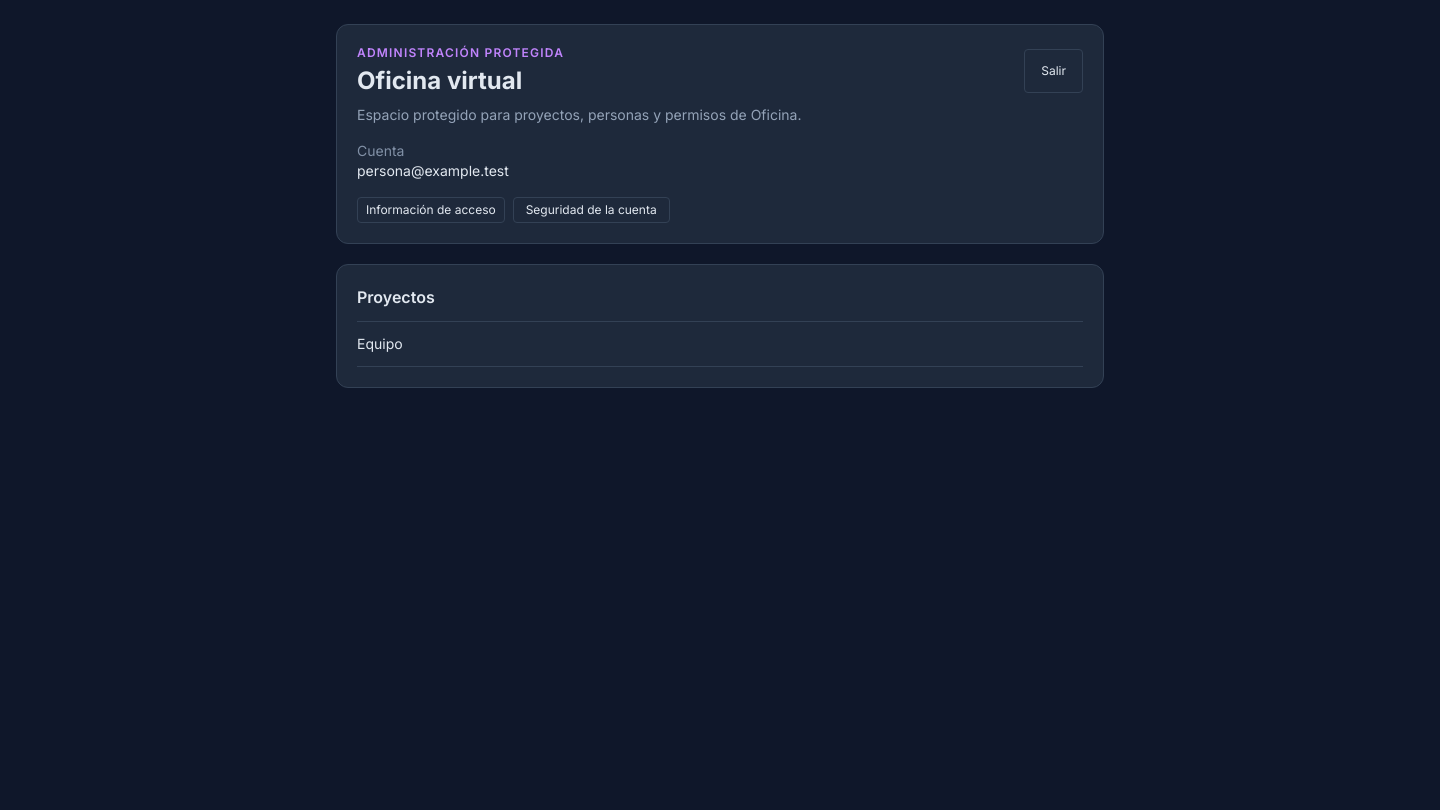
it: Virtual Office › shows member management to a project administrator from the project capability, without offering role elevation
This screenshot has width=1440, height=810.
What coordinates should you click on to do the following:
click the button "Equipo"
I would click on:
 (380, 344)
Its box is [357,322,1083,366].
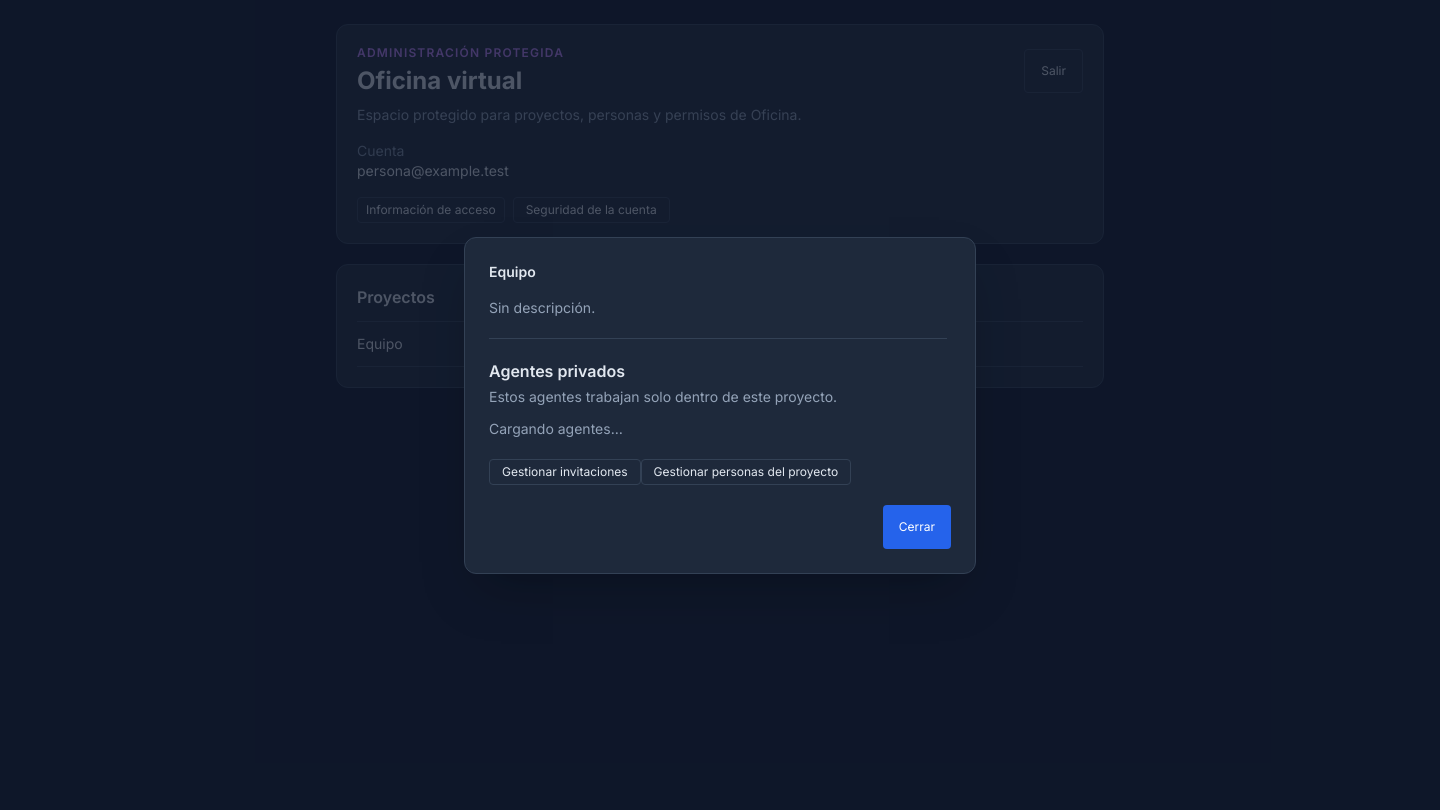
What coordinates should you click on to do the following:
click the button "Gestionar personas del proyecto"
I would click on:
 (746, 472)
Its box is [641,458,851,484].
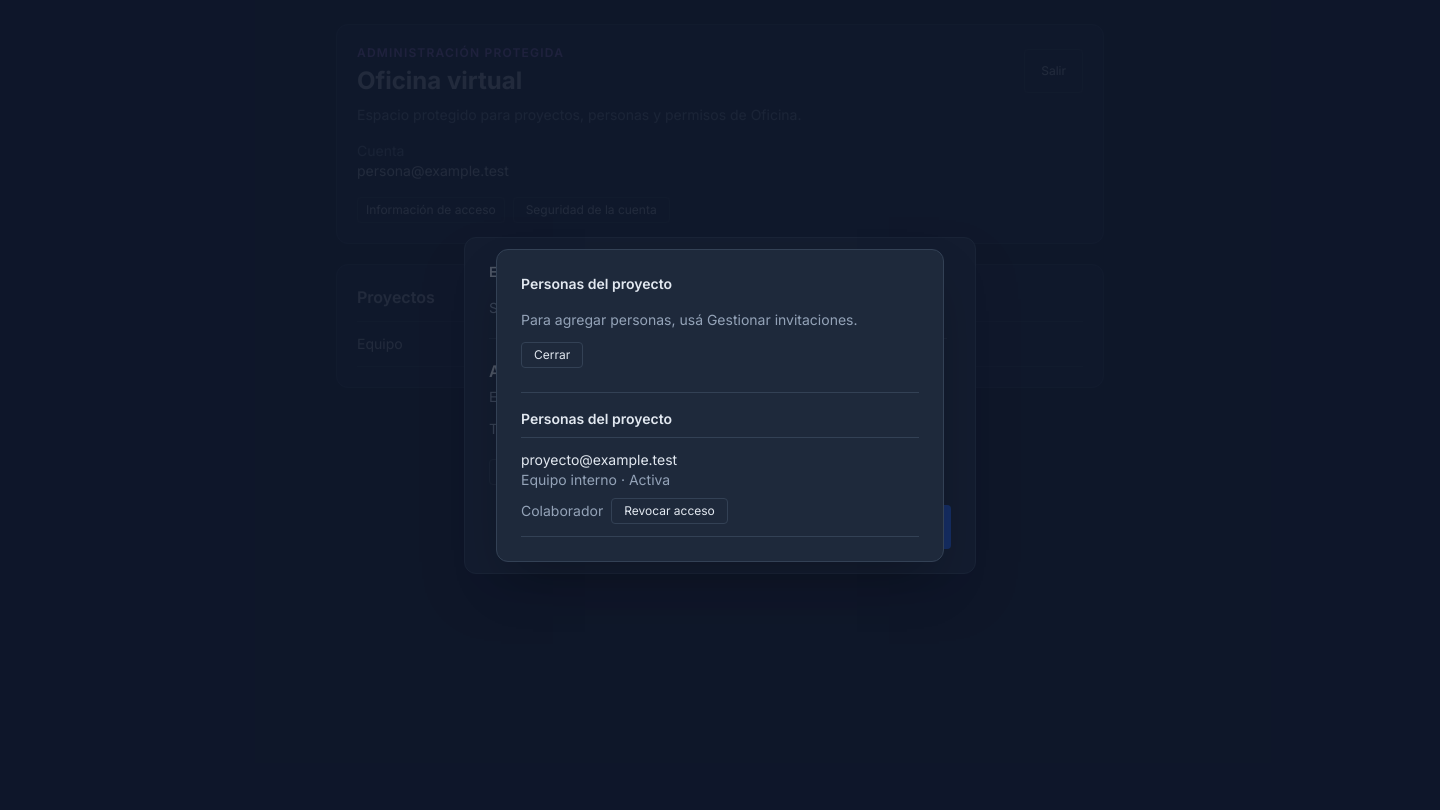
expect the dialog "Personas del proyecto" is shown: met, box [496,248,944,562]
expect the text "Para agregar personas, usá Gestionar invitaciones." is shown: met, box [521,310,858,330]
expect the text "proyecto@example.test" is shown: met, box [521,450,677,468]
